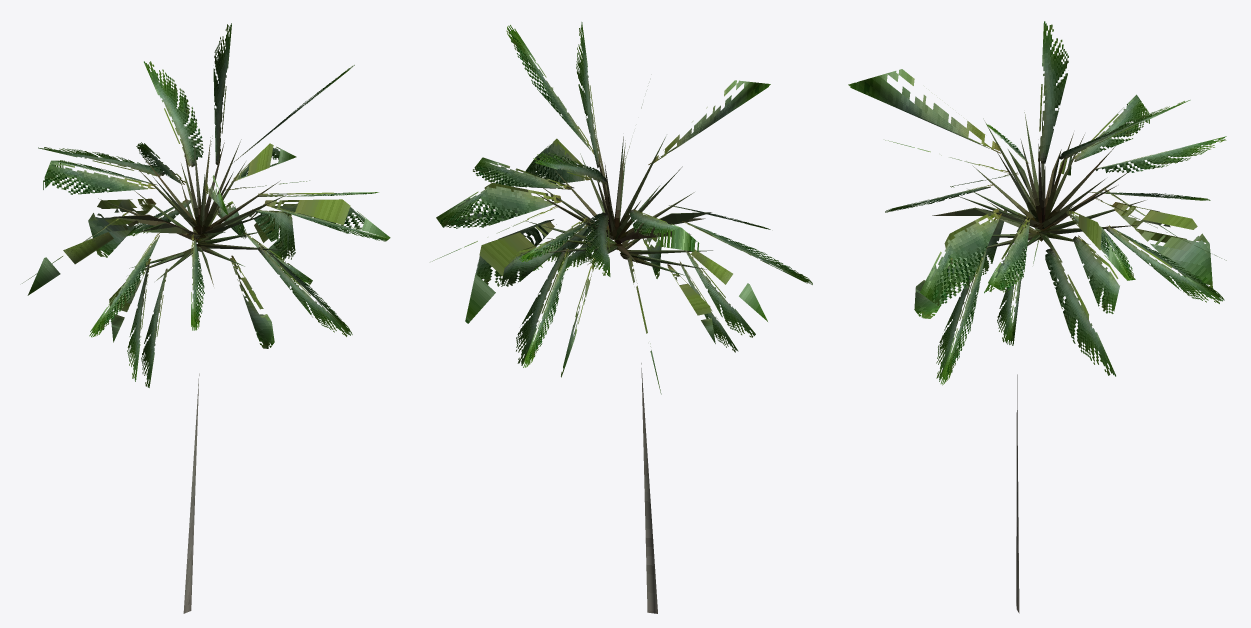
Rendered from palm-small.lod1.glb.
The picture shows the model from 3 angles, left to right: view 1: azimuth 30°, elevation 25°; view 2: azimuth 150°, elevation 25°; view 3: azimuth 270°, elevation 25°; orthographic projection. The views are drawn at different scales.
Visible parts, largest first — view 1: SM_MZRa_Palm_B082_MI_MZRa_Palm_B08a_0, SM_MZRa_Palm_B082_MI_MZRa_Palm_B08b_0; view 2: SM_MZRa_Palm_B082_MI_MZRa_Palm_B08a_0, SM_MZRa_Palm_B082_MI_MZRa_Palm_B08b_0; view 3: SM_MZRa_Palm_B082_MI_MZRa_Palm_B08a_0, SM_MZRa_Palm_B082_MI_MZRa_Palm_B08b_0.
Part boxes in pixels (x1,y1,x2,y2): SM_MZRa_Palm_B082_MI_MZRa_Palm_B08a_0: [22, 23, 390, 387]; SM_MZRa_Palm_B082_MI_MZRa_Palm_B08b_0: [98, 135, 289, 613]; SM_MZRa_Palm_B082_MI_MZRa_Palm_B08a_0: [432, 22, 812, 394]; SM_MZRa_Palm_B082_MI_MZRa_Palm_B08b_0: [526, 125, 712, 613]; SM_MZRa_Palm_B082_MI_MZRa_Palm_B08a_0: [848, 21, 1226, 385]; SM_MZRa_Palm_B082_MI_MZRa_Palm_B08b_0: [932, 111, 1145, 613].
Size of the model in its own units: 3.49 by 6 by 3.39.
2 materials, 2 textured.
